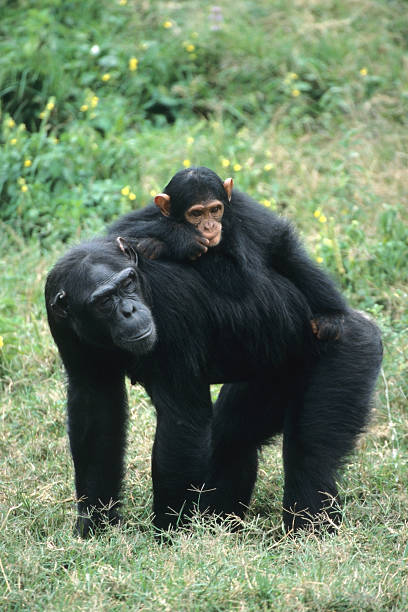chimpanzee: (38, 237, 183, 370), (154, 162, 255, 261)
